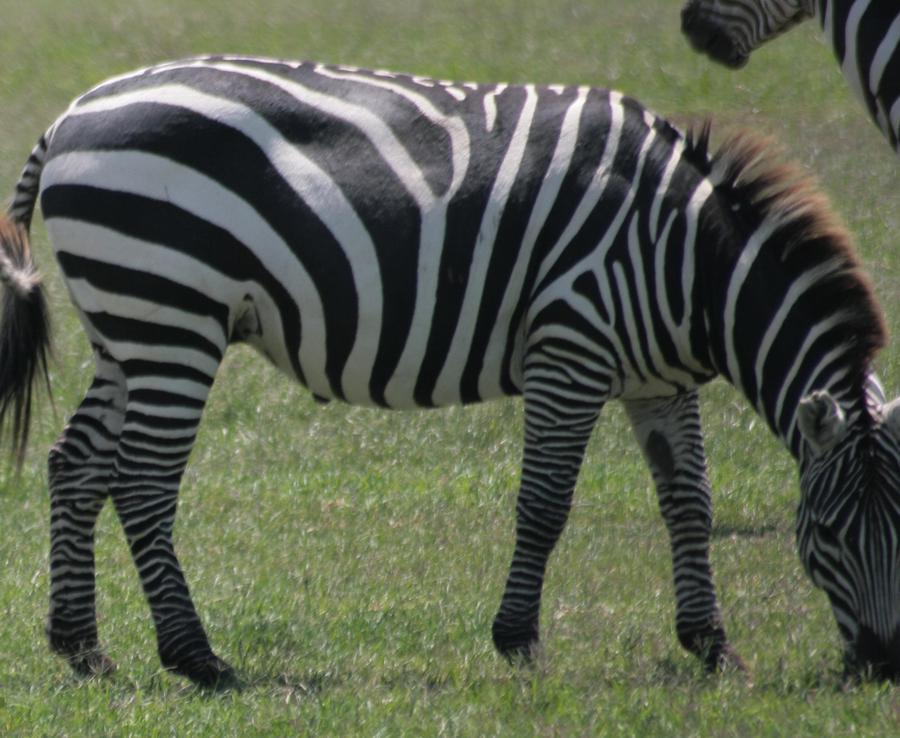zebra_plains: (56, 55, 688, 394)
